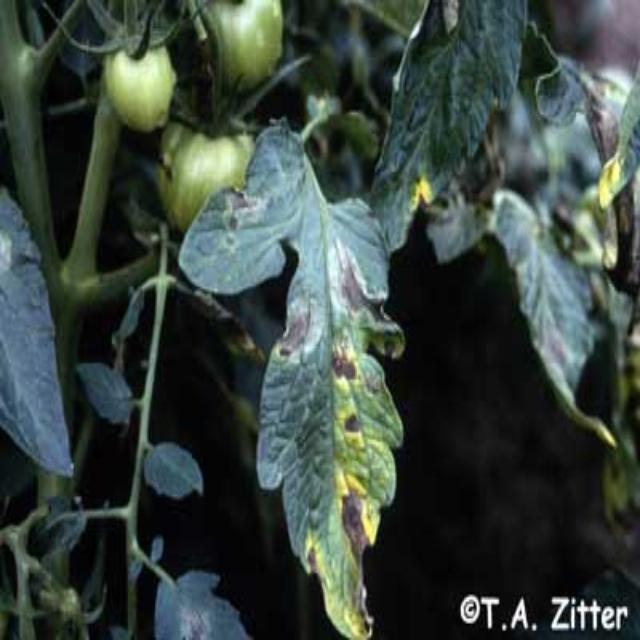Late_blight: (333, 475, 379, 640), (581, 74, 628, 211), (333, 242, 392, 325), (272, 300, 311, 366), (326, 335, 361, 387), (402, 173, 434, 211), (302, 531, 324, 577), (340, 404, 362, 438)
